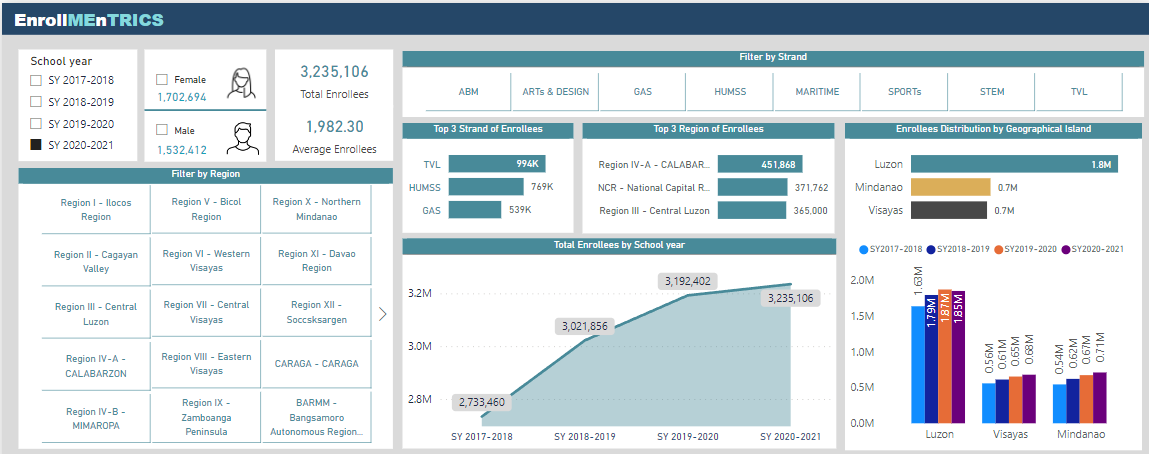

This screenshot's page, from the dashboard's own definition file:
{"tool":"powerbi","page":{"name":"Dashboard","canvas":[1280,1280],"ordinal":0},"visuals":[{"type":"shape","box":[937.5,730.8,330,26.7],"z":0},{"type":"slicer","fields":{"Values":["Total_enrollees_SY2017-2021.Gender"]},"box":[158.2,51.8,135.3,124.7],"z":1000},{"type":"shape","box":[0,0,1279.5,35.7],"z":2000},{"type":"textbox","box":[8.2,0,190.6,45.3],"z":3000},{"type":"areaChart","title":"Total Enrollees by School year","fields":{"Category":["Total_enrollees_SY2017-2021.School year"],"Y":["Sum(Total_enrollees_SY2017-2021.Total Enrollees)"]},"box":[444.8,262.2,481.7,233],"z":4000},{"type":"card","fields":{"Values":["Sum(Total_enrollees_SY2017-2021.Total Enrollees)"]},"box":[302.7,52.3,131.3,64],"z":5000},{"type":"slicer","fields":{"Values":["School_year.School year"]},"box":[18,52,132,124],"z":6000},{"type":"card","fields":{"Values":["Sum(Total_enrollees_SY2017-2021.Total Enrollees)"]},"box":[158.2,150,81.8,25.9],"z":7000},{"type":"image","box":[234.7,126.5,64.7,47.6],"z":8000},{"type":"image","box":[244.1,65.3,45.3,48.2],"z":9000},{"type":"card","fields":{"Values":["Sum(Total_enrollees_SY2017-2021.Total Enrollees)"]},"box":[162.9,89.4,71.8,30],"z":10000},{"type":"shape","box":[158,108.7,135.3,21.3],"z":11000},{"type":"slicer","title":"Filter by Strand","fields":{"Values":["Strand.Strand"]},"box":[444.2,53.2,823.7,73.2],"z":12000},{"type":"slicer","title":"Filter by Region","fields":{"Values":["Region_sort.Region"]},"box":[18,184,416,312],"z":13000},{"type":"clusteredBarChart","title":"Enrollees Distribution by Geographical Island","fields":{"Category":["Region_sort.Region_category"],"Y":["Sum(Total_enrollees_SY2017-2021.Total Enrollees)"]},"box":[937.4,133,330,122.6],"z":14000},{"type":"card","fields":{"Values":["Avg(Total_enrollees_SY2017-2021.Total Enrollees)"]},"box":[302.7,114.1,131.4,62.3],"z":15000},{"type":"clusteredColumnChart","title":"Enrollees Distribution by Sector","fields":{"Category":["Total_enrollees_SY2017-2021.Sector"],"Y":["Sum(Total_enrollees_SY2017-2021.Total Enrollees)"]},"box":[938.3,510,329.2,212.5],"z":16000},{"type":"barChart","title":"Top 3 Region of Enrollees","fields":{"Category":["Total_enrollees_SY2017-2021.Region"],"Y":["Sum(Total_enrollees_SY2017-2021.Total Enrollees)"]},"box":[645.7,133,280,122.6],"z":17000},{"type":"clusteredBarChart","title":"Top 3 Strand of Enrollees","fields":{"Category":["Total_enrollees_SY2017-2021.Strand"],"Y":["Sum(Total_enrollees_SY2017-2021.Total Enrollees)"]},"box":[444.4,133.1,190,121.9],"z":18000},{"type":"clusteredColumnChart","fields":{"Category":["Region_sort.Region_category"],"Y":["Sum(Total_enrollees_by_year.Total_enrollees_SY2017-2018)","Sum(Total_enrollees_by_year.Total_enrollees_SY2018-2019)","Sum(Total_enrollees_by_year.Total_enrollees_SY2019-2020)","Sum(Total_enrollees_by_year.Total_enrollees_SY2020-2021)"]},"box":[937.2,254.4,330,241.7],"z":19000},{"type":"funnel","title":"Enrollees Distribution by Region","fields":{"Y":["Sum(Total_enrollees_SY2017-2021.Total Enrollees)"],"Category":["Total_enrollees_SY2017-2021.Region"]},"box":[444,826,480,442],"z":20000},{"type":"hundredPercentStackedBarChart","title":"Gender Distribution by Region","fields":{"Category":["Region_sort.Region"],"Y":["Sum(Gender_distribution.Enrollees_male)","Sum(Gender_distribution.Enrollees_female)"]},"box":[17.5,510,415,442.5],"z":21000},{"type":"hundredPercentStackedColumnChart","title":"Gender Distribution by Strand","fields":{"Category":["Gender_distribution.Strand"],"Y":["Sum(Gender_distribution.Enrollees_male)","Sum(Gender_distribution.Enrollees_female)"]},"box":[18,966,416,302],"z":22000},{"type":"donutChart","title":"Grade 11","fields":{"Y":["Sum(Gender_distribution.Enrollees_male)","Sum(Gender_distribution.Enrollees_female)"]},"box":[937.1,757.1,330,141.4],"z":23000},{"type":"donutChart","title":"Grade 12","fields":{"Y":["Sum(Gender_distribution.Enrollees_male)","Sum(Gender_distribution.Enrollees_female)"]},"box":[937.1,898.6,330,134.3],"z":24000},{"type":"filledMap","fields":{"Category":["Region_sort.Region"]},"box":[444,510,480,302],"z":25000},{"type":"clusteredColumnChart","title":"Enrollees Growth Rate","fields":{"Y":["Total_enrollees_SY2017-2021.SY2018_2019_GR","Total_enrollees_SY2017-2021.SY2019_2020_GR","Total_enrollees_SY2017-2021.SY2020_2021_GR"]},"box":[937,1047,330,221],"z":25001}]}

Visuals, with their boxes on the page's 1280x1280 design canvas (x1, y1, x2, y2). These are canvas units, not pixel positions in the 1149x454 screenshot, which may show the page scaled, cropped or inside an application window:
shape: box=[938, 731, 1268, 758]
slicer - Total_enrollees_SY2017-2021.Gender: box=[158, 52, 294, 176]
shape: box=[0, 0, 1280, 36]
textbox: box=[8, 0, 199, 45]
"Total Enrollees by School year" areaChart: box=[445, 262, 926, 495]
card - Sum(Total_enrollees_SY2017-2021.Total Enrollees): box=[303, 52, 434, 116]
slicer - School_year.School year: box=[18, 52, 150, 176]
card - Sum(Total_enrollees_SY2017-2021.Total Enrollees): box=[158, 150, 240, 176]
image: box=[235, 126, 299, 174]
image: box=[244, 65, 289, 114]
card - Sum(Total_enrollees_SY2017-2021.Total Enrollees): box=[163, 89, 235, 119]
shape: box=[158, 109, 293, 130]
"Filter by Strand" slicer: box=[444, 53, 1268, 126]
"Filter by Region" slicer: box=[18, 184, 434, 496]
"Enrollees Distribution by Geographical Island" clusteredBarChart: box=[937, 133, 1267, 256]
card - Avg(Total_enrollees_SY2017-2021.Total Enrollees): box=[303, 114, 434, 176]
"Enrollees Distribution by Sector" clusteredColumnChart: box=[938, 510, 1268, 722]
"Top 3 Region of Enrollees" barChart: box=[646, 133, 926, 256]
"Top 3 Strand of Enrollees" clusteredBarChart: box=[444, 133, 634, 255]
clusteredColumnChart - Region_sort.Region_category x Sum(Total_enrollees_by_year.Total_enrollees_SY2017-2018): box=[937, 254, 1267, 496]
"Enrollees Distribution by Region" funnel: box=[444, 826, 924, 1268]
"Gender Distribution by Region" hundredPercentStackedBarChart: box=[18, 510, 432, 952]
"Gender Distribution by Strand" hundredPercentStackedColumnChart: box=[18, 966, 434, 1268]
"Grade 11" donutChart: box=[937, 757, 1267, 898]
"Grade 12" donutChart: box=[937, 899, 1267, 1033]
filledMap - Region_sort.Region: box=[444, 510, 924, 812]
"Enrollees Growth Rate" clusteredColumnChart: box=[937, 1047, 1267, 1268]
